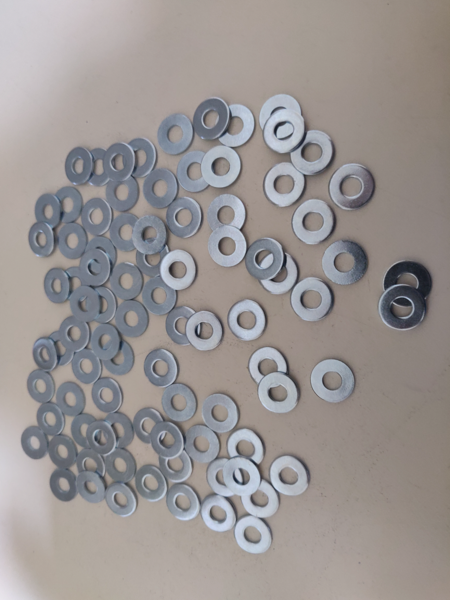circle: (329, 163, 377, 212), (379, 284, 425, 332), (384, 261, 432, 306), (291, 199, 336, 246), (200, 145, 242, 195), (323, 240, 368, 286), (311, 359, 357, 404), (262, 164, 306, 210), (290, 130, 334, 175), (264, 109, 308, 154), (290, 278, 334, 322), (260, 94, 302, 140), (214, 103, 255, 149), (164, 195, 205, 241), (192, 96, 231, 143), (207, 193, 249, 236), (257, 253, 298, 296), (208, 226, 249, 269), (258, 371, 299, 413), (102, 171, 142, 214), (157, 112, 195, 157), (142, 166, 179, 212), (228, 300, 268, 342), (248, 348, 288, 389), (269, 455, 309, 496), (159, 250, 199, 291), (241, 478, 280, 519), (247, 238, 285, 280), (207, 460, 244, 503), (234, 516, 274, 555), (223, 457, 261, 498), (175, 152, 213, 193), (103, 140, 138, 184), (187, 311, 223, 353), (185, 424, 221, 466), (132, 214, 168, 256), (141, 275, 177, 317), (109, 262, 145, 304), (165, 306, 201, 348), (201, 495, 239, 534), (202, 393, 239, 433), (114, 300, 151, 340), (150, 421, 187, 460), (122, 137, 156, 179), (227, 429, 264, 467), (163, 384, 199, 422), (135, 238, 169, 278), (81, 197, 114, 238), (144, 349, 178, 388), (101, 410, 135, 449), (52, 184, 84, 225), (101, 448, 137, 484), (133, 408, 167, 446), (58, 314, 91, 353), (63, 145, 94, 186), (109, 212, 140, 253), (167, 485, 202, 521), (31, 191, 63, 230), (44, 329, 76, 368), (82, 147, 112, 188), (104, 483, 139, 518), (159, 446, 192, 483), (68, 286, 101, 323), (87, 285, 120, 322), (34, 400, 67, 436), (70, 348, 102, 385), (135, 465, 166, 503), (57, 222, 88, 260), (80, 248, 111, 286), (102, 340, 133, 378), (47, 469, 81, 503), (86, 420, 117, 457), (86, 237, 117, 274), (90, 323, 120, 361), (76, 470, 107, 506), (92, 377, 122, 414), (70, 413, 98, 452), (75, 448, 106, 483), (55, 382, 86, 417), (20, 426, 50, 462), (27, 221, 56, 258), (64, 264, 92, 301), (42, 268, 70, 304), (48, 434, 76, 469), (27, 369, 54, 405), (33, 337, 58, 374)
